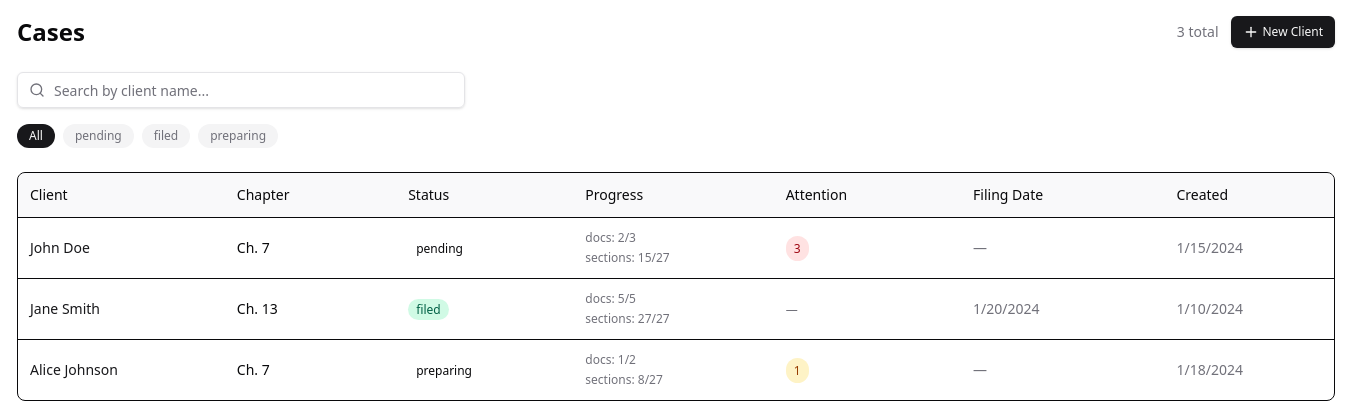
it: StaffDashboard › should clear search when input is emptied
Expected: the link "John Doe" is shown, 30,238 -> 90,257
Search for specific name
In the field labelled "Search by client name...": (241, 90) 17,72 -> 465,108, type "Jane"
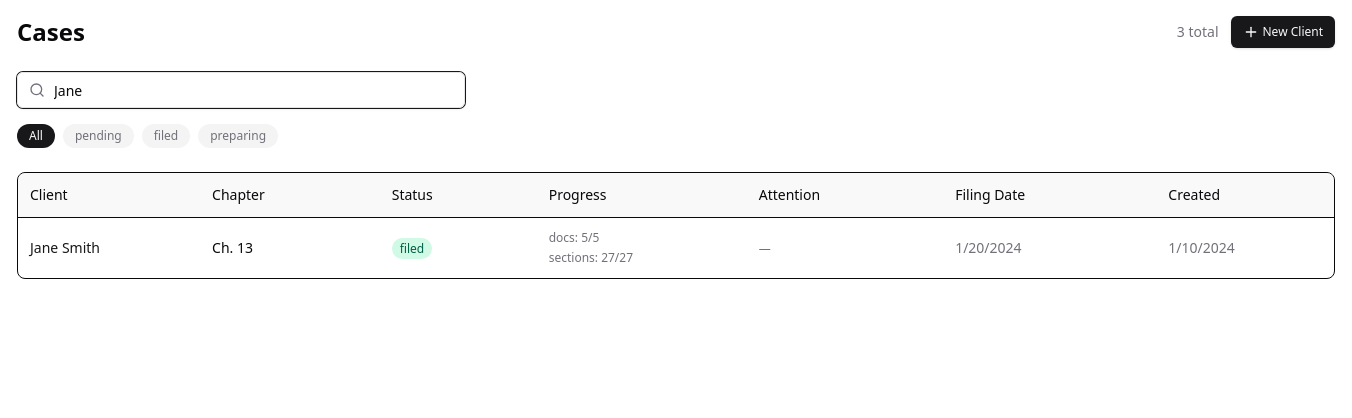
Expected: the link "Jane Smith" is shown, 30,238 -> 100,257
Expected: the link "John Doe" is gone
Clear search
Clear the field named "Search": (241, 90) 17,72 -> 465,108
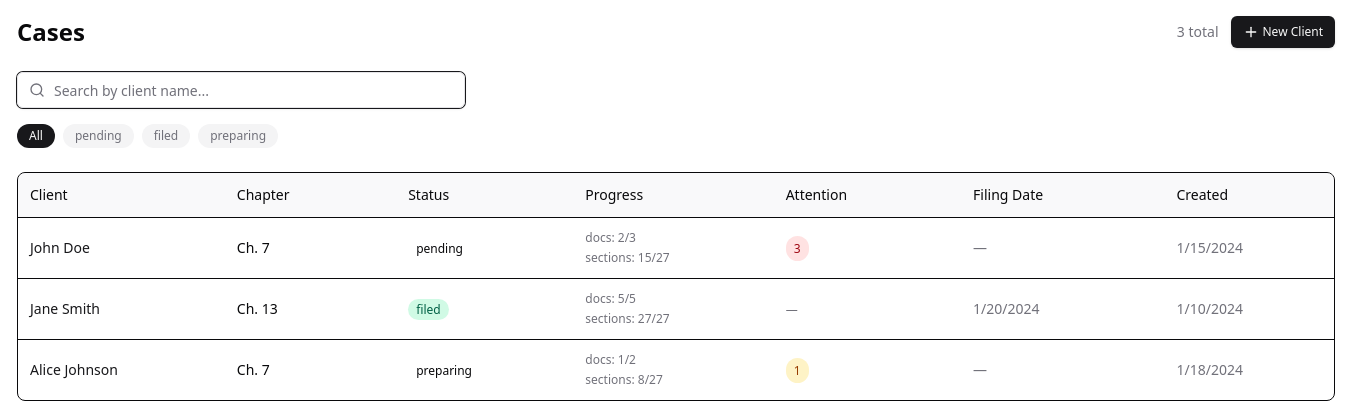
Expected: the link "Jane Smith" is shown, 30,299 -> 100,318
Expected: the link "John Doe" is shown, 30,238 -> 90,257
Expected: the link "Alice Johnson" is shown, 30,360 -> 118,379
